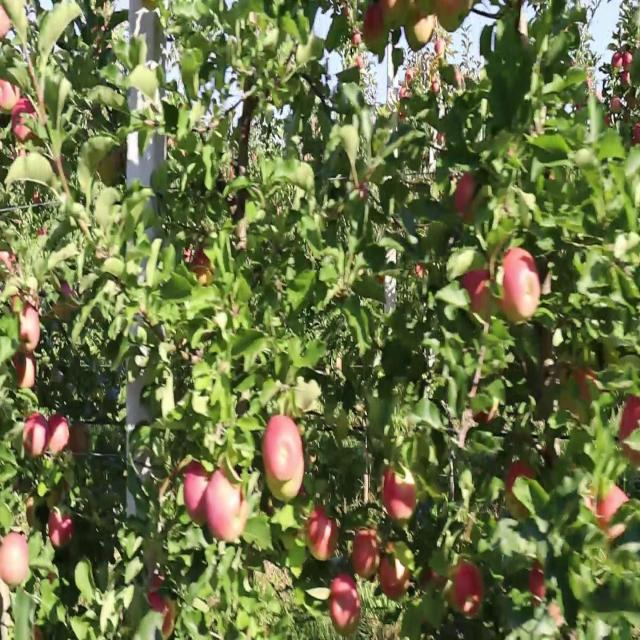apple: (264, 419, 305, 503), (500, 248, 543, 325), (208, 469, 249, 546), (596, 483, 631, 546), (328, 575, 362, 638), (452, 561, 485, 619), (564, 369, 598, 425), (308, 504, 340, 562), (384, 469, 417, 523), (380, 547, 411, 604), (504, 462, 536, 517), (0, 533, 30, 588), (148, 575, 175, 636), (184, 462, 209, 524), (404, 7, 436, 53), (620, 398, 640, 468), (352, 533, 381, 581), (468, 383, 498, 428), (464, 270, 492, 318), (569, 369, 598, 411), (12, 99, 38, 144), (24, 412, 48, 459), (456, 170, 478, 220), (436, 0, 467, 34), (20, 305, 41, 354), (48, 511, 75, 549), (48, 412, 71, 455), (52, 284, 77, 322), (528, 561, 549, 604), (100, 149, 123, 188), (352, 163, 374, 203), (12, 355, 36, 391), (364, 7, 385, 48), (384, 1, 408, 32), (12, 291, 39, 318), (0, 78, 19, 116), (92, 21, 111, 59), (72, 426, 91, 457), (424, 568, 447, 590), (0, 255, 17, 283), (12, 291, 31, 316), (0, 7, 13, 41), (28, 497, 37, 526)
